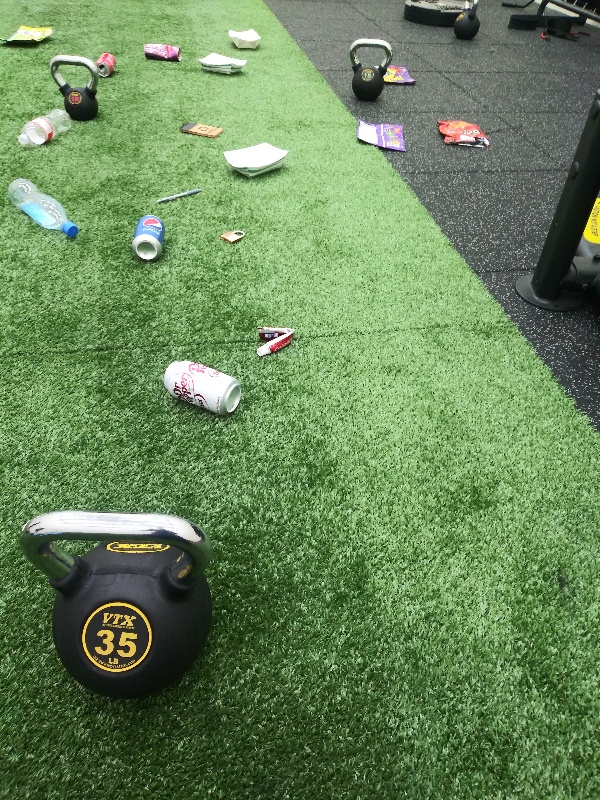bag: (353, 115, 411, 156), (433, 117, 495, 151), (1, 21, 55, 49), (378, 63, 415, 87)
bottle: (5, 174, 86, 243), (15, 106, 72, 149)
can: (158, 359, 247, 417), (129, 211, 168, 264), (139, 39, 186, 63), (96, 49, 117, 79)
plate: (221, 139, 293, 181), (193, 50, 251, 79), (228, 26, 265, 52)
